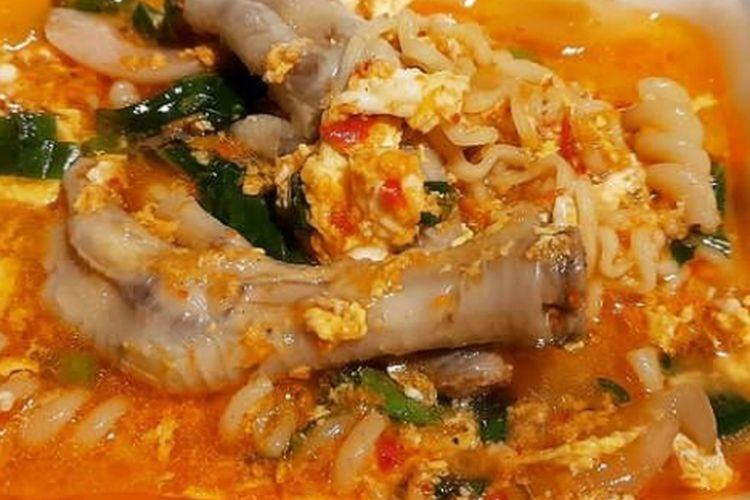seblak: (1, 2, 750, 500)
